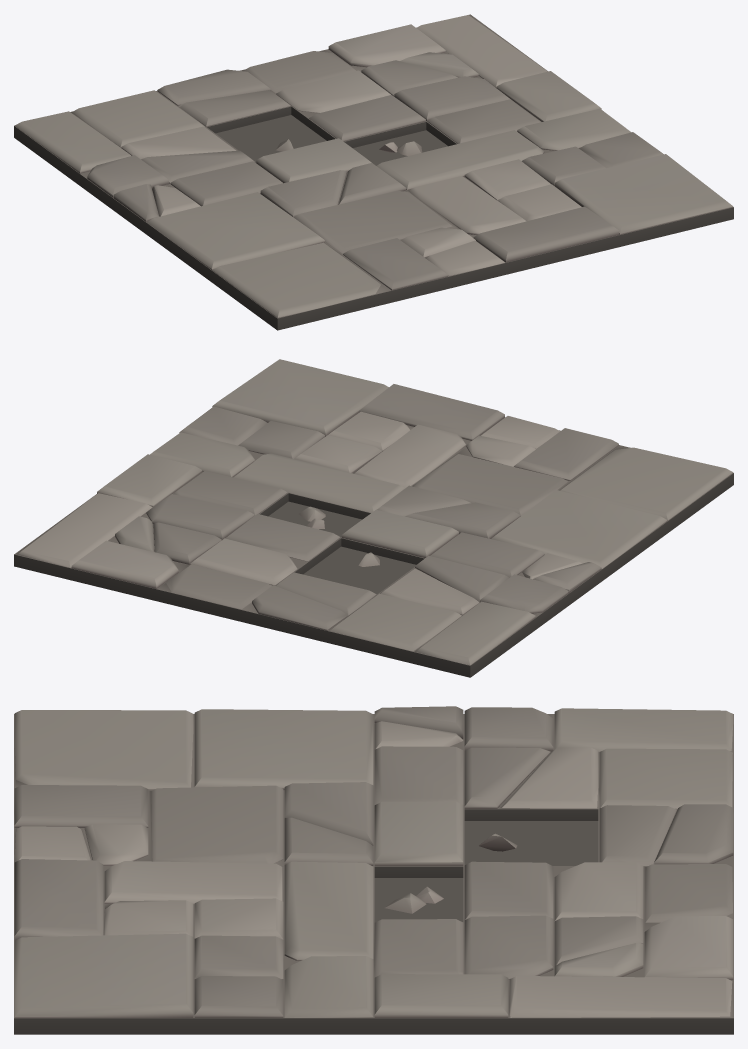
File: floor_flagstones_ruined_large_C.glb
3 views of the same model, one above another, from view 1: azimuth 30°, elevation 25°; view 2: azimuth 150°, elevation 25°; view 3: azimuth 270°, elevation 25° (orthographic). The views are drawn at different scales.
Parts seen in each view (by area): view 1: Item; view 2: Item; view 3: Item.
Part boxes in pixels (bbox=[...]): Item: bbox=[14, 14, 733, 330]; Item: bbox=[14, 359, 733, 677]; Item: bbox=[14, 706, 733, 1034].
Bounding box in the file's own units: 4 × 0.1755 × 4.
Materials: 1 (1 with a texture image).
